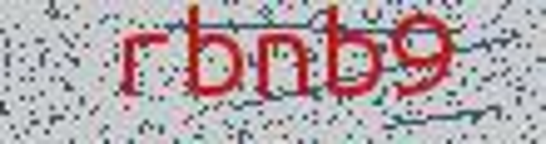9: (388, 4, 463, 106)
b: (178, 2, 249, 104), (319, 3, 385, 112)
n: (253, 23, 312, 106)
r: (108, 14, 173, 107)
